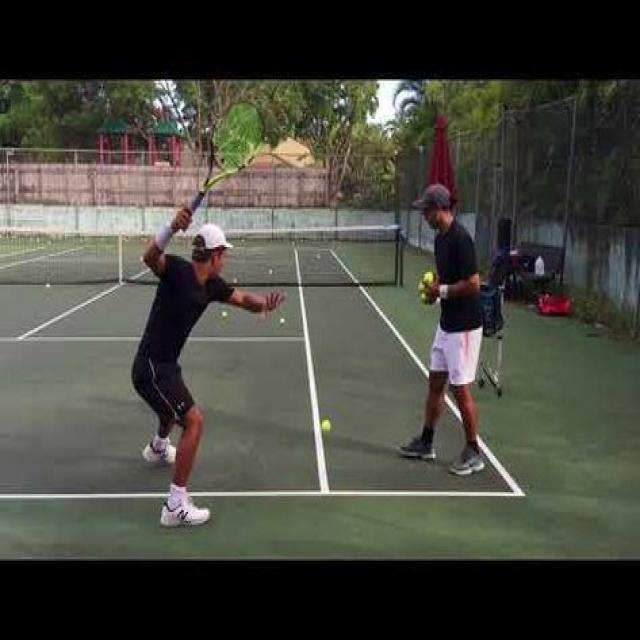net: (0, 218, 411, 288)
player: (136, 98, 286, 527)
